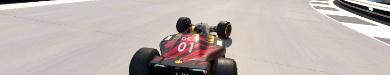Car: (128, 17, 238, 74)
